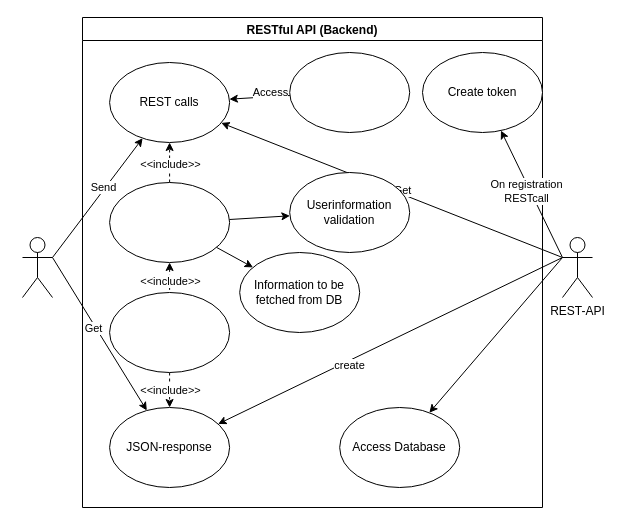
Some shapes in this 622 by 525 pixel diagram are drawn without their labels. Here are the shapes that lost their labels. From the top down, the box of each, then its label:
(289, 52, 410, 132): Via different URL-path
(109, 182, 230, 262): With headers
(22, 236, 52, 298): Android App
(109, 292, 230, 372): Token validation
